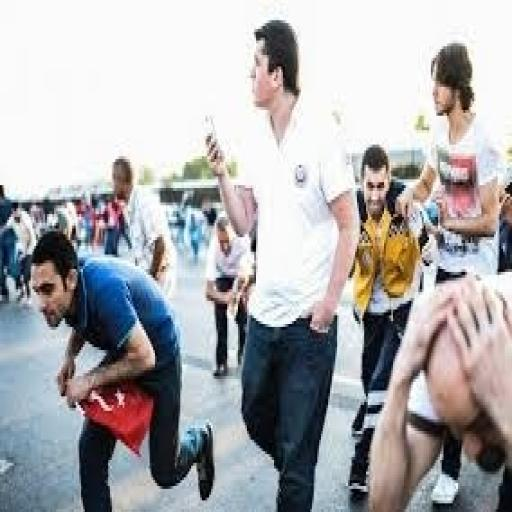running: (202, 17, 362, 509), (393, 38, 508, 509), (27, 226, 218, 509)
